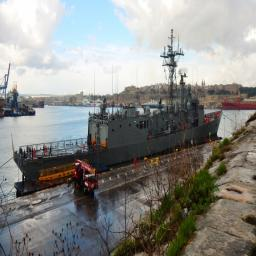Fragata: (14, 26, 225, 192)
